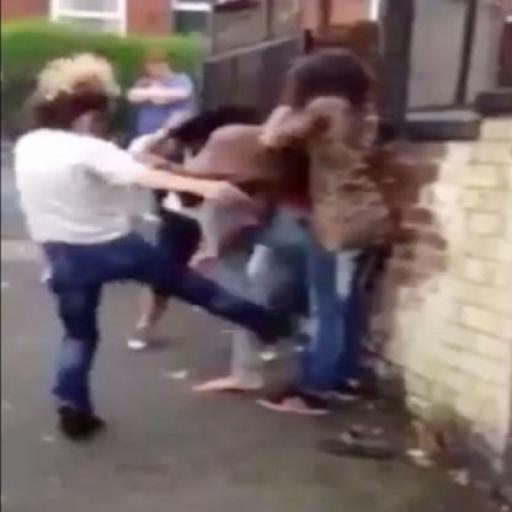Fighting: (2, 52, 401, 441)
